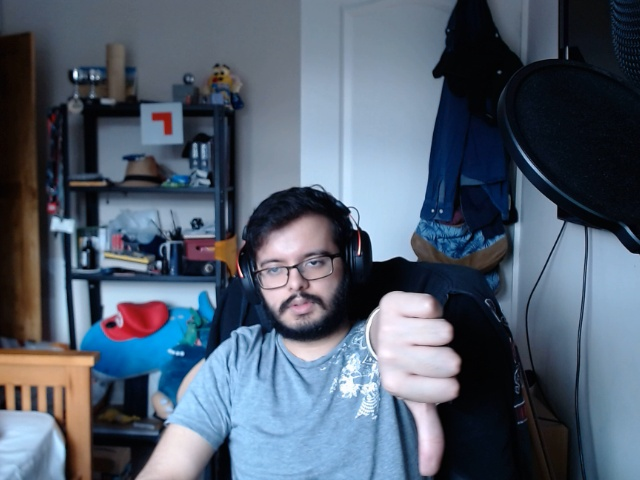Thumbs down: (375, 279, 477, 472)
